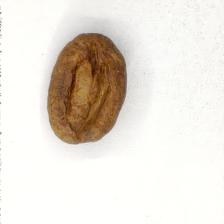NG: (55, 38, 119, 140)
